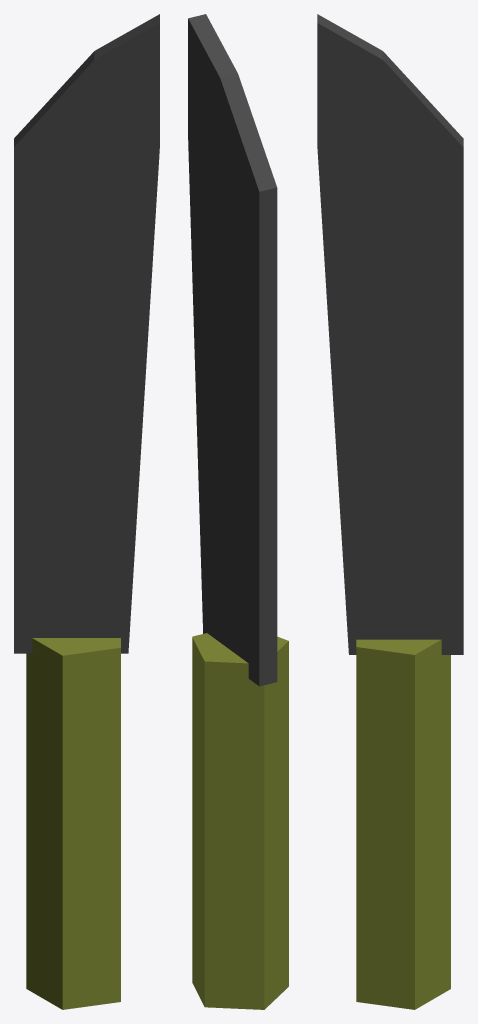
File: machete.glb
3 renders of one model, left to right at view 1: azimuth 90°, elevation 25°; view 2: azimuth 210°, elevation 25°; view 3: azimuth 270°, elevation 25°, orthographic. The views are drawn at different scales.
Visible parts, largest first — view 1: machete; view 2: machete; view 3: machete.
Part boxes in pixels (x1,y1,x2,y2): machete: [14, 14, 159, 1009]; machete: [188, 14, 288, 1009]; machete: [317, 14, 463, 1009].
Bounding box in the file's own units: 0.0374 × 0.4017 × 0.0548.
